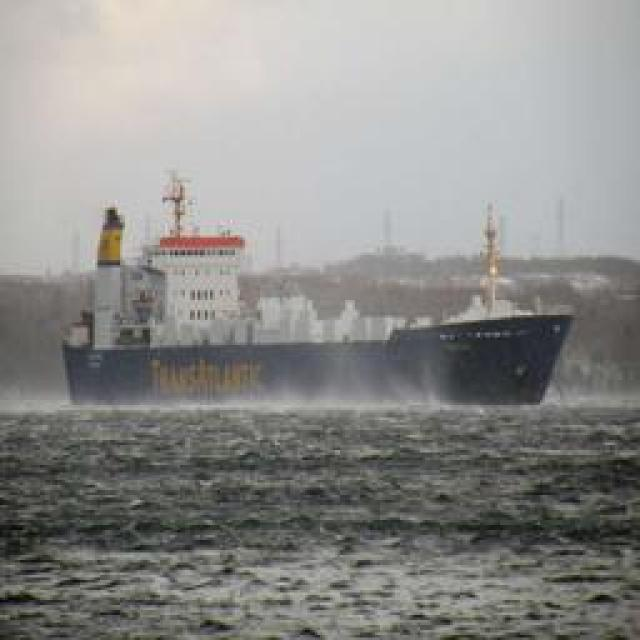CIV_Ship: (65, 299, 573, 409)
